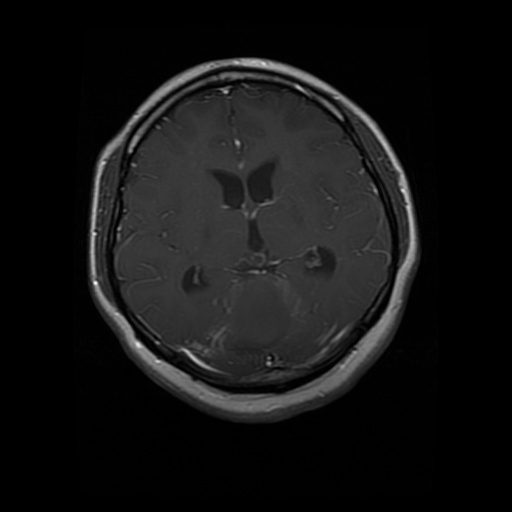glioma: (199, 274, 345, 376)
